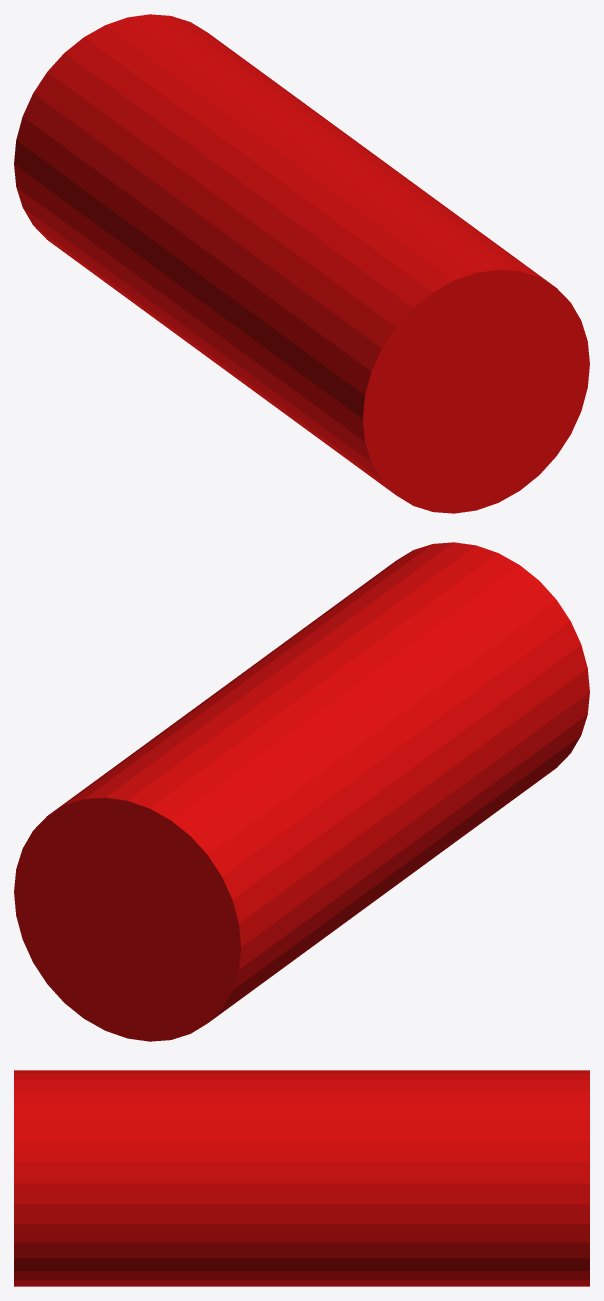
The model's file is can_coke.obj.
3 renders of one model, top to bottom at view 1: azimuth 30°, elevation 25°; view 2: azimuth 150°, elevation 25°; view 3: azimuth 270°, elevation 25°, orthographic. The views are drawn at different scales.
Parts seen in each view (by area): view 1: can_coke; view 2: can_coke; view 3: can_coke.
Boxes of the visible parts, bbox=[...] form: can_coke: bbox=[14, 14, 589, 513]; can_coke: bbox=[14, 542, 589, 1041]; can_coke: bbox=[14, 1070, 589, 1286].
Bounding box in the file's own units: 0.05 × 0.05 × 0.133.
